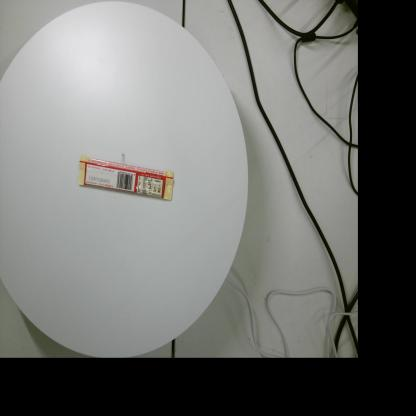Chocolate: (77, 155, 174, 200)
